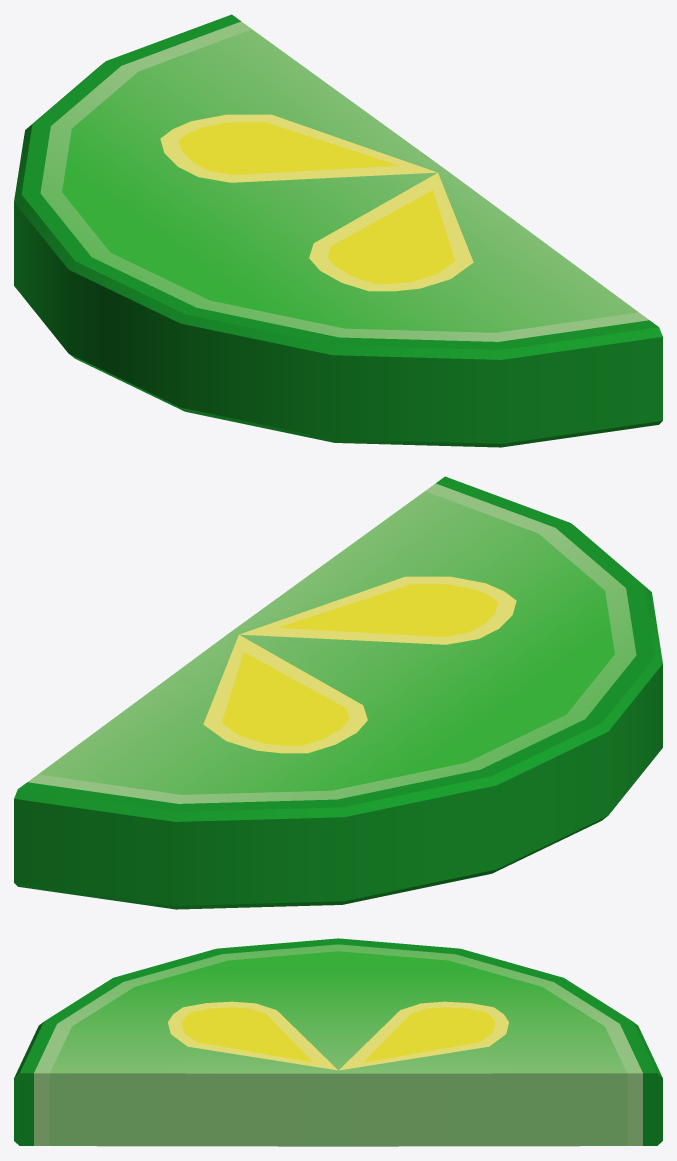
The model's file is Cucumber_slice_half.fbx.
The picture shows the model from 3 angles, top to bottom: view 1: azimuth 30°, elevation 25°; view 2: azimuth 150°, elevation 25°; view 3: azimuth 270°, elevation 25°; orthographic projection. The views are drawn at different scales.
Visible parts, largest first — view 1: Cucumber_slice_half; view 2: Cucumber_slice_half; view 3: Cucumber_slice_half.
Part boxes in pixels (box(x1,y1,x2,y2)): Cucumber_slice_half: box(14, 14, 662, 447); Cucumber_slice_half: box(14, 476, 662, 909); Cucumber_slice_half: box(14, 938, 662, 1146).
Bounding box in the file's own units: 23.54 × 46.86 × 5.8.
